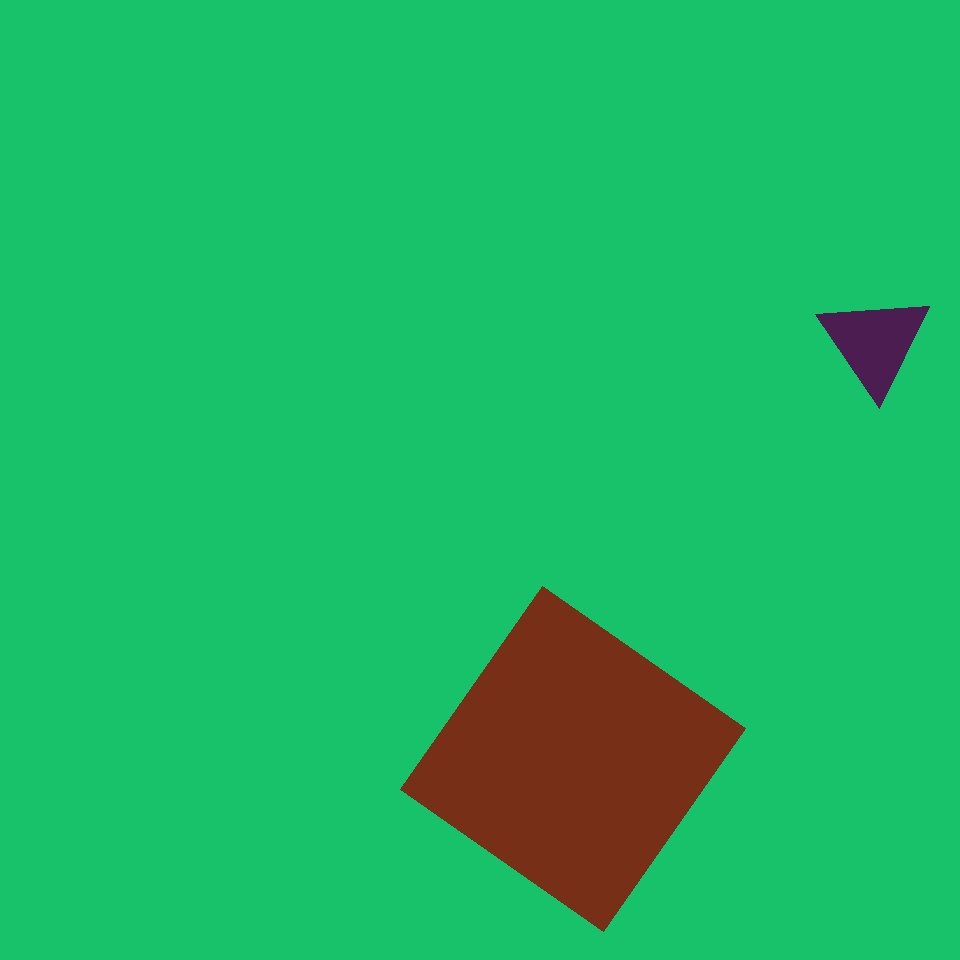circle: (818, 292, 932, 394)
square: (401, 586, 746, 932), (491, 258, 761, 529), (145, 264, 347, 466)
triangle: (644, 562, 815, 732)
